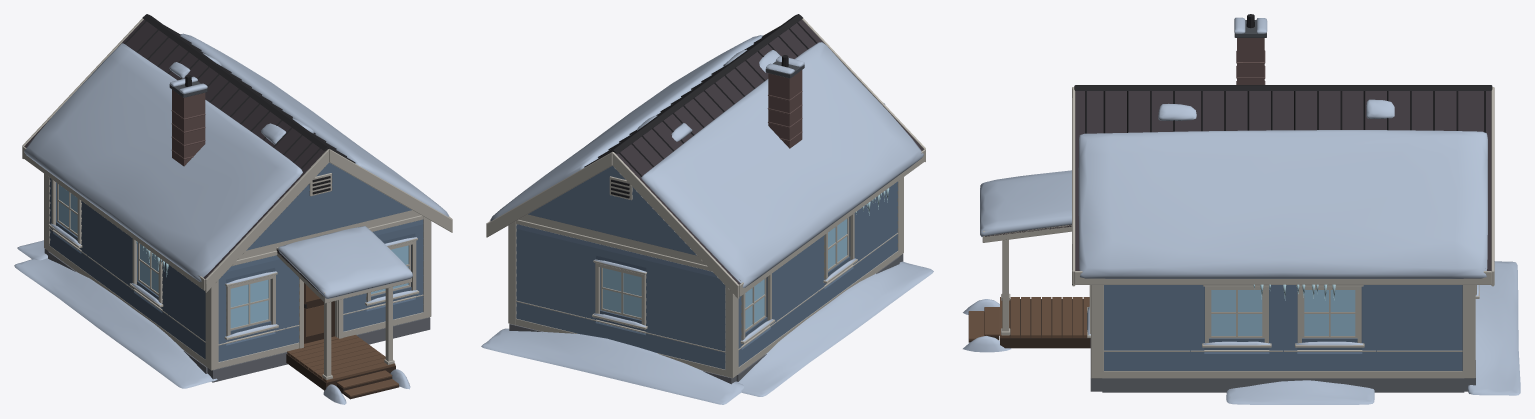
The model's file is house_small_B.glb.
3 views of the same model, side by side, from view 1: azimuth 30°, elevation 25°; view 2: azimuth 150°, elevation 25°; view 3: azimuth 270°, elevation 25° (orthographic). The views are drawn at different scales.
Parts seen in each view (by area): view 1: Roof, Floor0, Walls0_S, Walls0_W, Window_0, Door_0, Walls0_S_Stub, Window_6, Window_5, Walls0_N, Walls0_W_Stub; view 2: Roof, Walls0_N, Floor0, Walls0_W, Window_2, Walls0_N_Stub, Window_5, Window_6, Walls0_S, Walls0_W_Stub; view 3: Roof, Walls0_E, Floor0, Window_4, Window_3, Walls0_S, Walls0_N, Walls0_E_Stub.
Boxes of the visible parts, bbox=[...] form: Roof: bbox=[22, 14, 452, 303]; Floor0: bbox=[14, 240, 430, 404]; Walls0_S: bbox=[205, 215, 431, 370]; Walls0_W: bbox=[48, 178, 205, 365]; Window_0: bbox=[230, 279, 268, 328]; Door_0: bbox=[304, 283, 334, 343]; Walls0_S_Stub: bbox=[205, 294, 431, 369]; Window_6: bbox=[59, 184, 77, 233]; Window_5: bbox=[140, 244, 158, 292]; Walls0_N: bbox=[44, 173, 50, 251]; Walls0_W_Stub: bbox=[49, 228, 205, 342]; Roof: bbox=[486, 14, 925, 298]; Walls0_N: bbox=[508, 219, 738, 377]; Floor0: bbox=[481, 254, 933, 404]; Walls0_W: bbox=[738, 181, 898, 373]; Window_2: bbox=[603, 268, 641, 317]; Walls0_N_Stub: bbox=[508, 300, 738, 377]; Window_5: bbox=[828, 219, 847, 268]; Window_6: bbox=[745, 279, 764, 329]; Walls0_S: bbox=[897, 177, 903, 256]; Walls0_W_Stub: bbox=[738, 233, 898, 349]; Roof: bbox=[980, 14, 1494, 300]; Walls0_E: bbox=[1103, 285, 1462, 378]; Floor0: bbox=[963, 239, 1520, 404]; Window_4: bbox=[1304, 290, 1355, 335]; Window_3: bbox=[1211, 290, 1262, 335]; Walls0_S: bbox=[1087, 285, 1103, 378]; Walls0_N: bbox=[1462, 285, 1479, 378]; Walls0_E_Stub: bbox=[1104, 350, 1462, 353].
Size of what is drawn, in the model's own units: 7.86 by 6.66 by 12.03.
